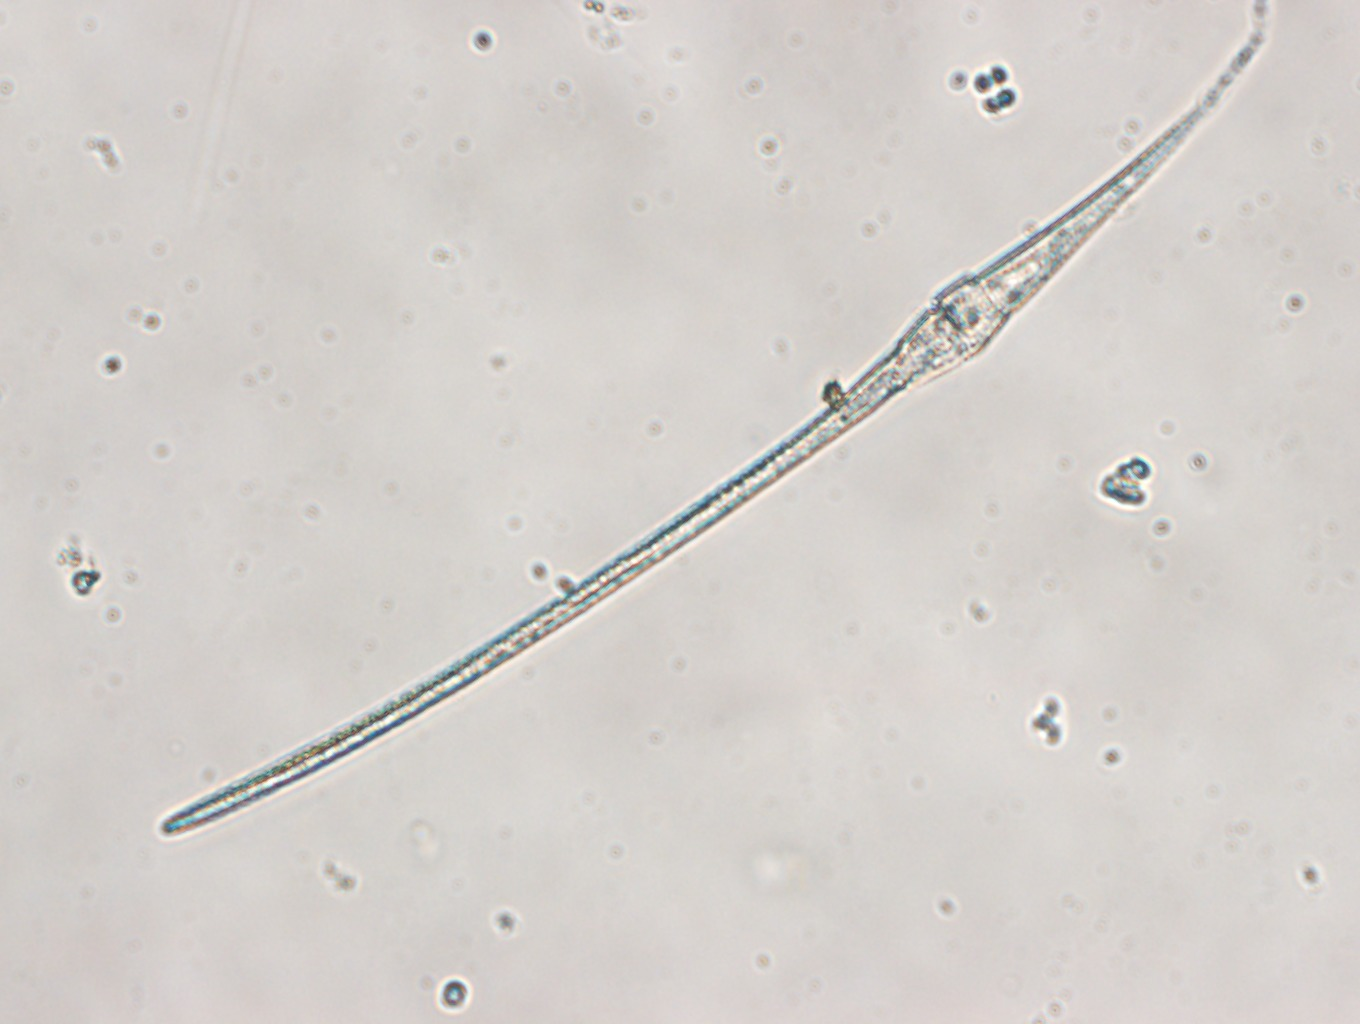ceratium fusus: (155, 32, 1266, 842)
